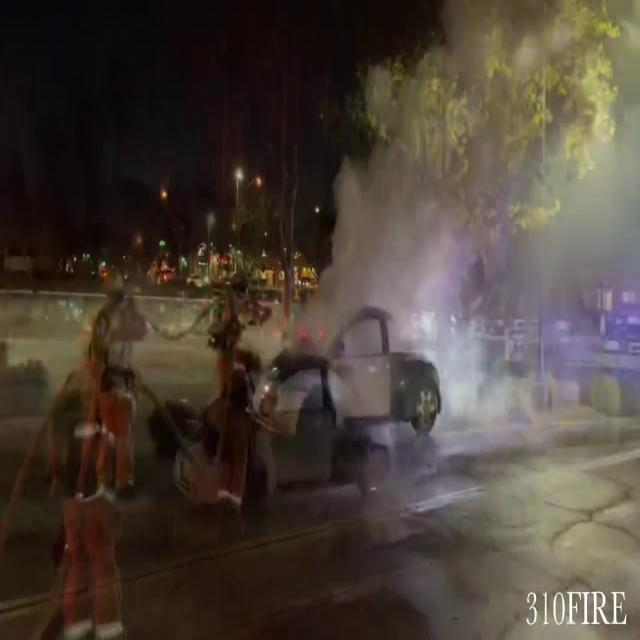Smoke: (324, 0, 640, 434)
